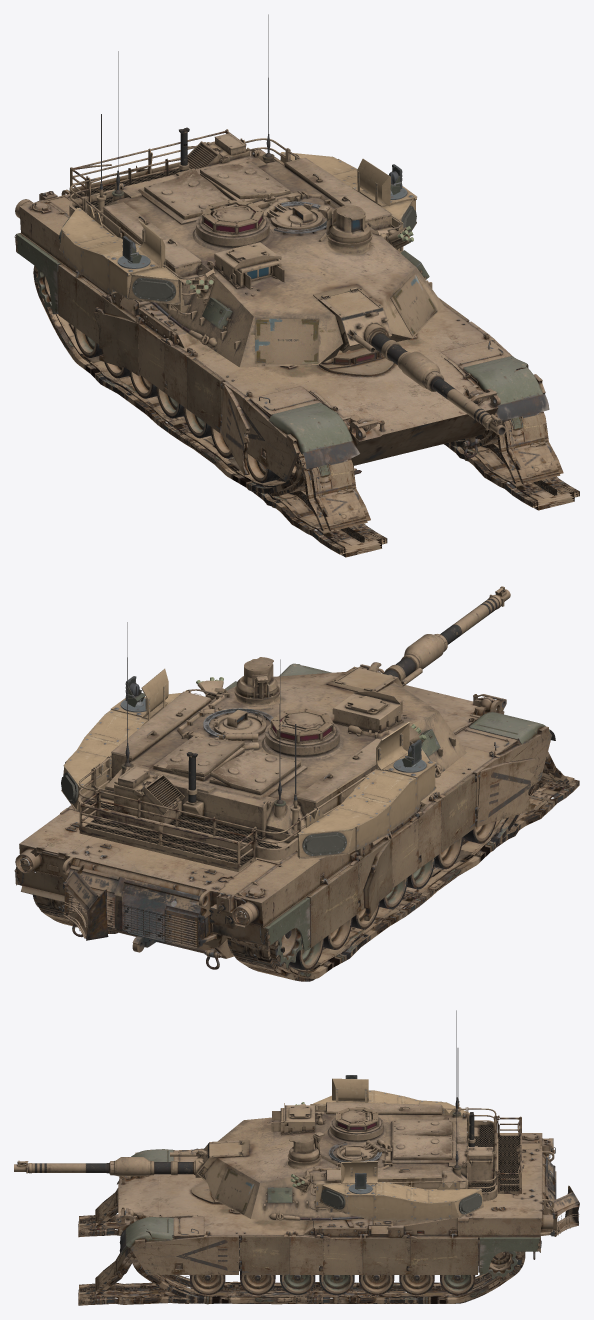
The model's file is VEH_Abrams.glb.
3 renders of one model, top to bottom at view 1: azimuth 30°, elevation 25°; view 2: azimuth 150°, elevation 25°; view 3: azimuth 270°, elevation 25°, orthographic. The views are drawn at different scales.
Parts seen in each view (by area): view 1: ob_veh_tank_abrams_base_s0, ob_veh_tank_abrams_base_s1, ob_veh_tank_abrams_tracks_s0_p1, ob_veh_tank_abrams_taps_s0_p0, ob_veh_tank_abrams_tracks_s0_p0; view 2: ob_veh_tank_abrams_base_s1, ob_veh_tank_abrams_base_s0, ob_veh_tank_abrams_taps_s0_p0, ob_veh_tank_abrams_tracks_s0_p1, ob_veh_tank_abrams_tracks_s0_p0; view 3: ob_veh_tank_abrams_base_s1, ob_veh_tank_abrams_base_s0, ob_veh_tank_abrams_tracks_s0_p0, ob_veh_tank_abrams_taps_s0_p0, ob_veh_tank_abrams_tracks_s0_p1.
Part boxes in pixels (left/top/right/bottom): ob_veh_tank_abrams_base_s0: left=69, top=14, right=506, bottom=435; ob_veh_tank_abrams_base_s1: left=14, top=149, right=549, bottom=483; ob_veh_tank_abrams_tracks_s0_p1: left=33, top=265, right=387, bottom=557; ob_veh_tank_abrams_taps_s0_p0: left=58, top=152, right=417, bottom=311; ob_veh_tank_abrams_tracks_s0_p0: left=443, top=411, right=579, bottom=510; ob_veh_tank_abrams_base_s1: left=14, top=663, right=555, bottom=970; ob_veh_tank_abrams_base_s0: left=15, top=586, right=510, bottom=944; ob_veh_tank_abrams_taps_s0_p0: left=61, top=668, right=436, bottom=859; ob_veh_tank_abrams_tracks_s0_p1: left=227, top=740, right=579, bottom=981; ob_veh_tank_abrams_tracks_s0_p0: left=33, top=895, right=117, bottom=933; ob_veh_tank_abrams_base_s1: left=115, top=1133, right=579, bottom=1295; ob_veh_tank_abrams_base_s0: left=14, top=1010, right=541, bottom=1248; ob_veh_tank_abrams_tracks_s0_p0: left=78, top=1237, right=525, bottom=1305; ob_veh_tank_abrams_taps_s0_p0: left=310, top=1075, right=484, bottom=1220; ob_veh_tank_abrams_tracks_s0_p1: left=78, top=1188, right=122, bottom=1237.
Bounding box in the file's own units: 4.42 × 4.41 × 10.04.
Materials: 7 (6 with a texture image).
